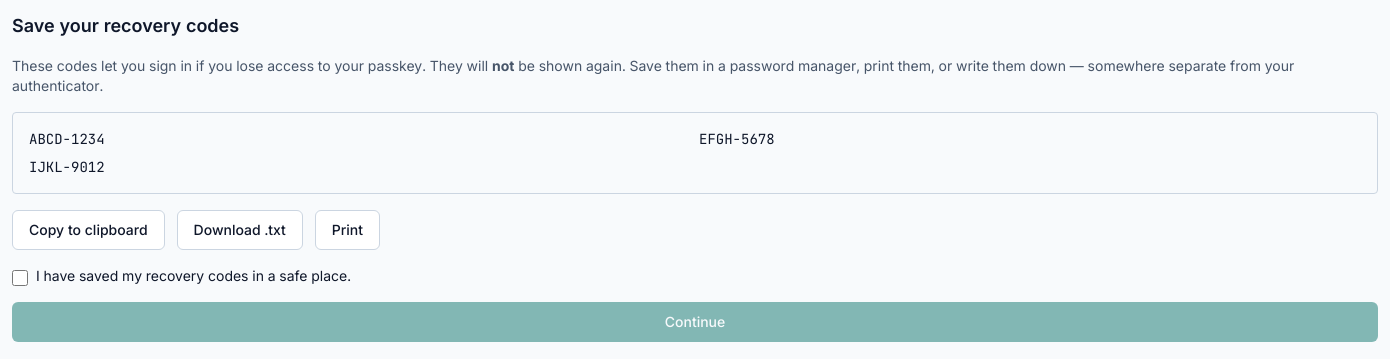
Test: RecoveryCodes › surfaces an "unavailable" status when writeText rejects
Click the button "Copy to clipboard": x=88, y=230 x1=12 y1=210 x2=165 y2=250
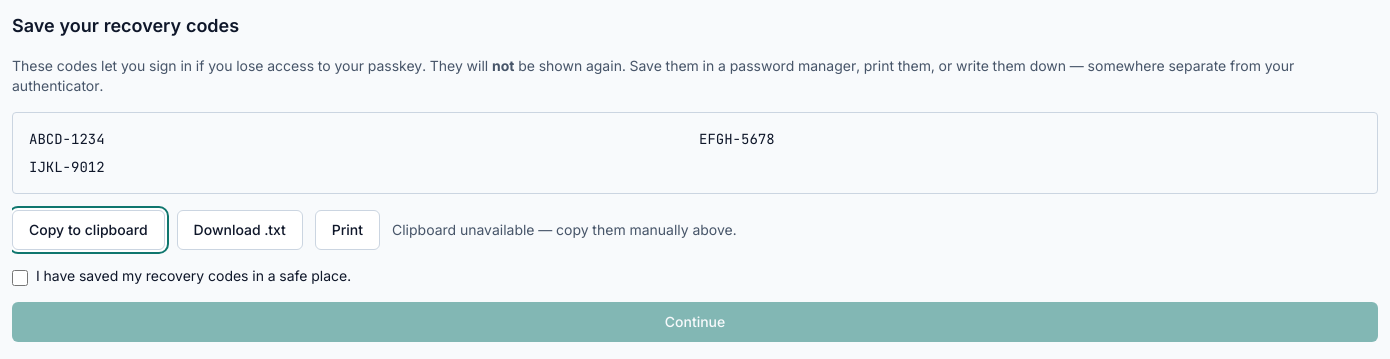
expect the message shows "Clipboard unavailable": met, box x1=392 y1=221 x2=736 y2=238
